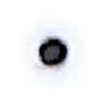cancer: (21, 18, 88, 84)
